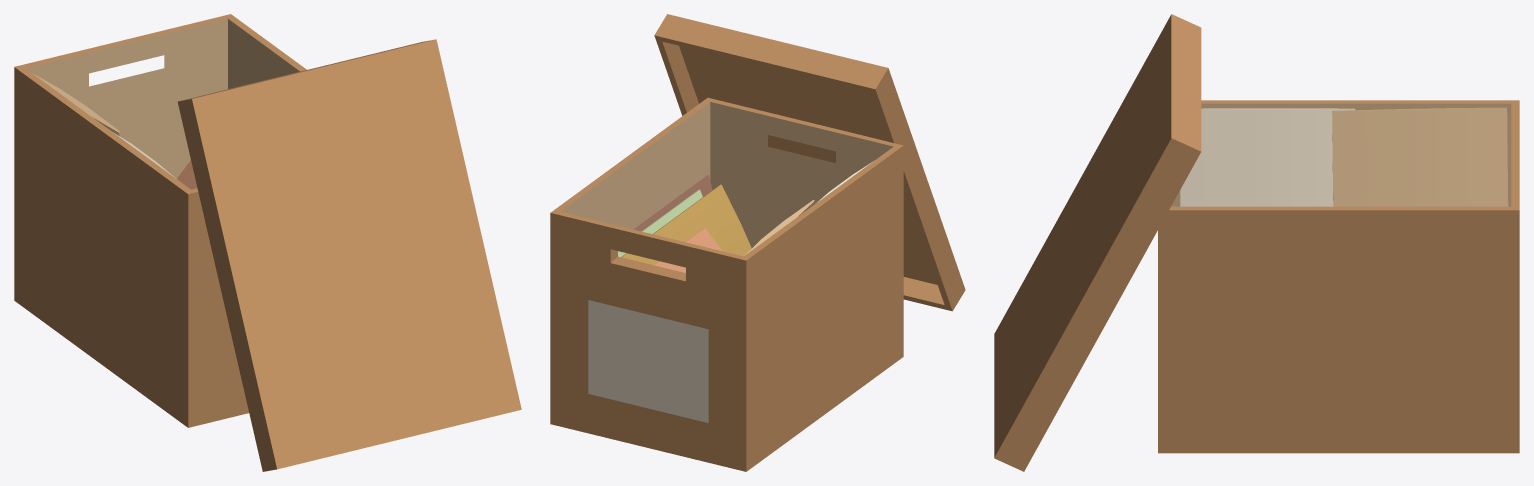
Rendered from g_o_Evidence.fbx.
3 renders of one model, left to right at view 1: azimuth 30°, elevation 25°; view 2: azimuth 150°, elevation 25°; view 3: azimuth 270°, elevation 25°, orthographic. The views are drawn at different scales.
Visible parts, largest first — view 1: box8, box; view 2: box, box8, box13, box11, box12, box14; view 3: box, box8, box10, box9.
Boxes of the visible parts, x1,y1,x2,y2 form: box8: [177, 39, 521, 471]; box: [14, 14, 306, 427]; box: [550, 97, 903, 471]; box8: [654, 14, 965, 311]; box13: [621, 184, 751, 265]; box11: [633, 175, 712, 231]; box12: [618, 189, 702, 256]; box14: [654, 228, 722, 272]; box: [1158, 100, 1519, 453]; box8: [994, 14, 1201, 471]; box10: [1332, 107, 1508, 206]; box9: [1180, 108, 1355, 206].
Size of the model in its own units: 0.3657 by 0.441 by 0.6282.
